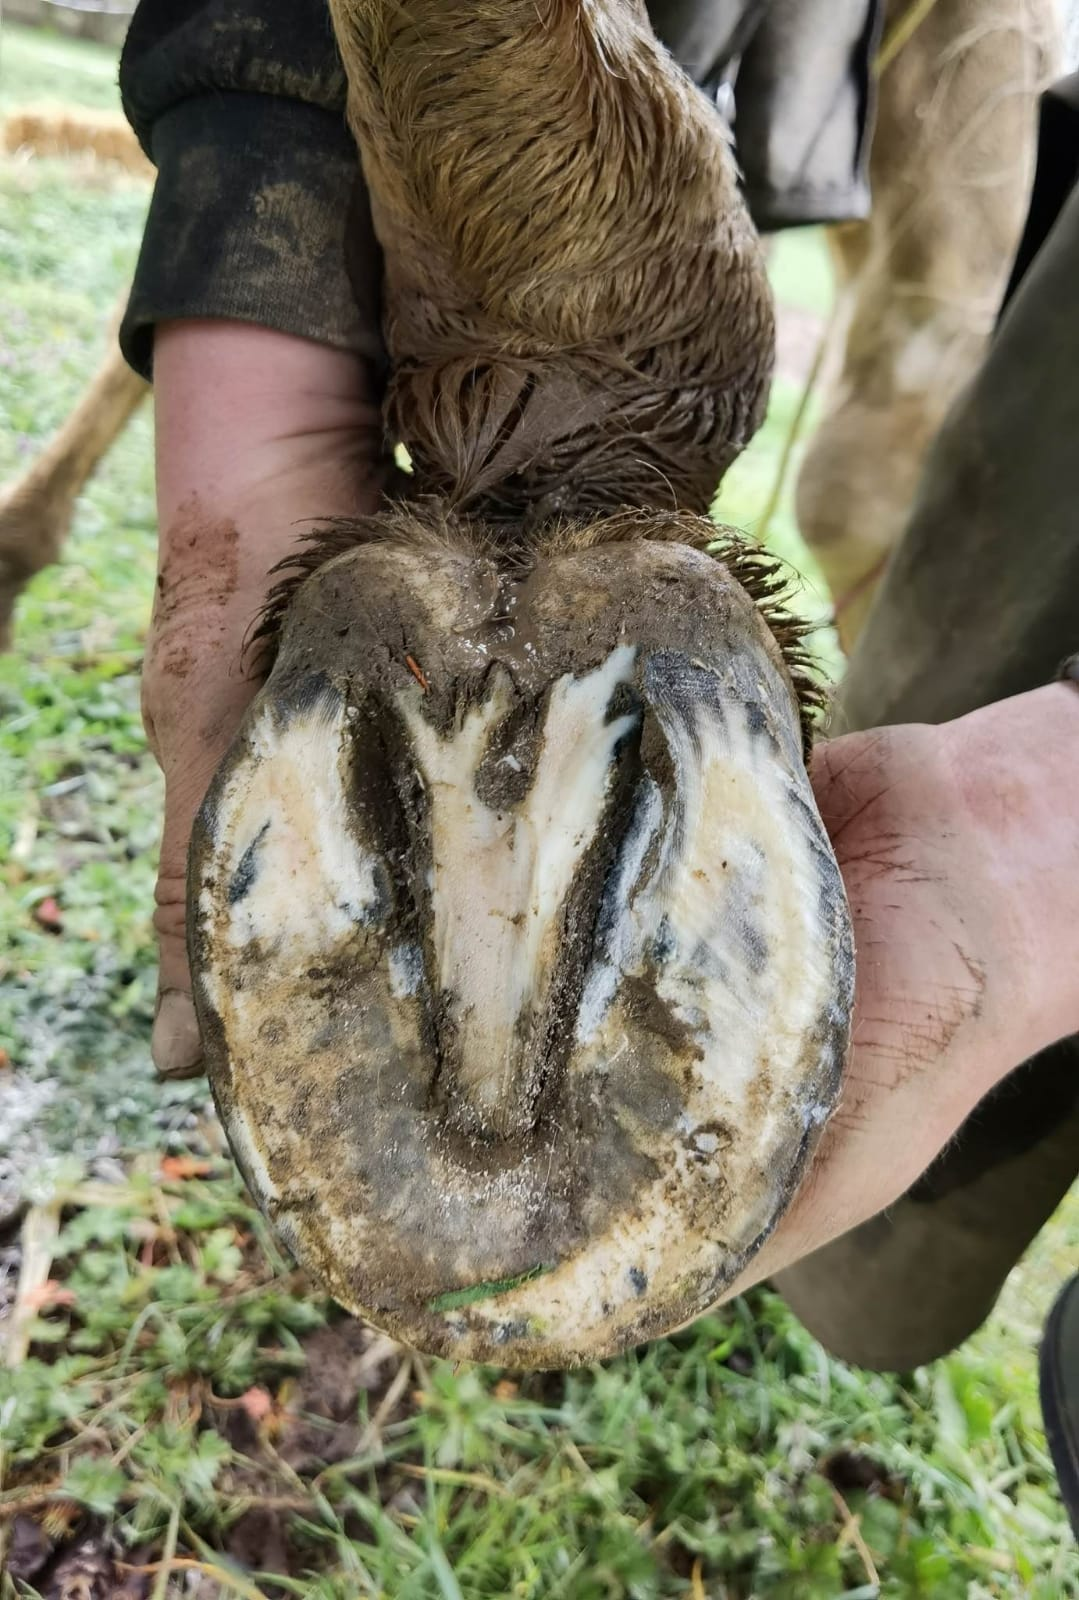horsesole: (189, 634, 861, 1376)
